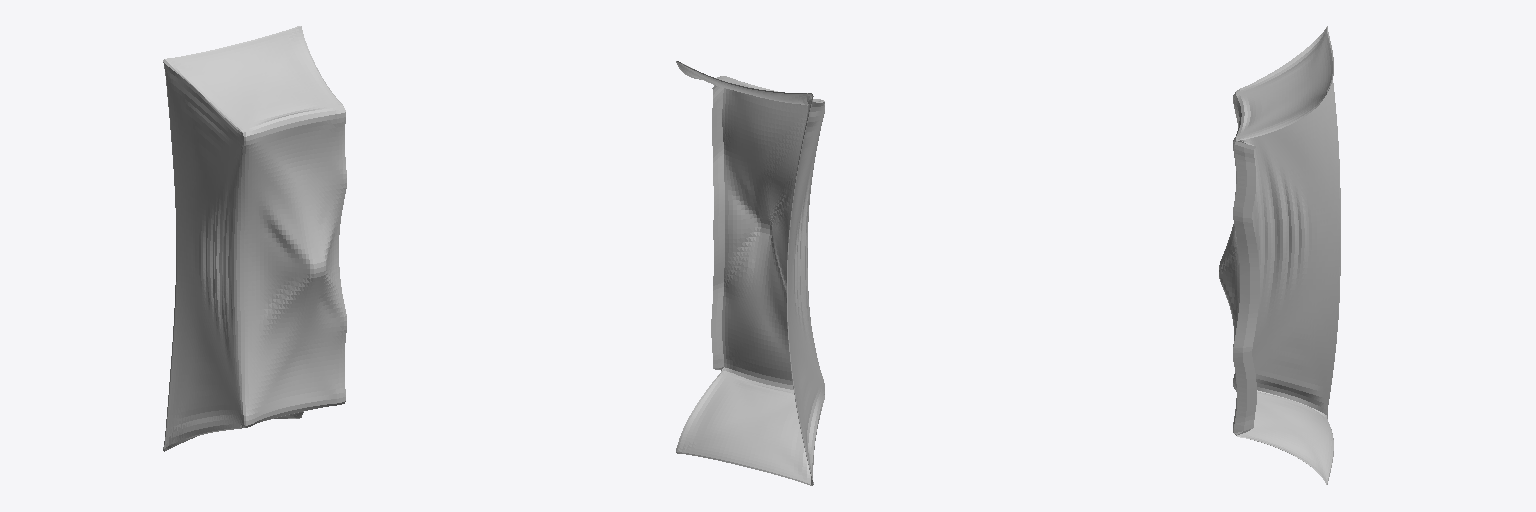
Rendered from tente.obj.
3 views of the same model, side by side, from view 1: azimuth 30°, elevation 25°; view 2: azimuth 150°, elevation 25°; view 3: azimuth 270°, elevation 25° (orthographic).
Parts seen in each view (by area): view 1: Cube.001; view 2: Cube.001; view 3: Cube.001.
Part boxes in pixels (bbox=[...]): Cube.001: bbox=[163, 26, 346, 451]; Cube.001: bbox=[676, 61, 824, 485]; Cube.001: bbox=[1219, 26, 1340, 484].
Bounding box in the file's own units: 2.39 × 6.47 × 1.82.